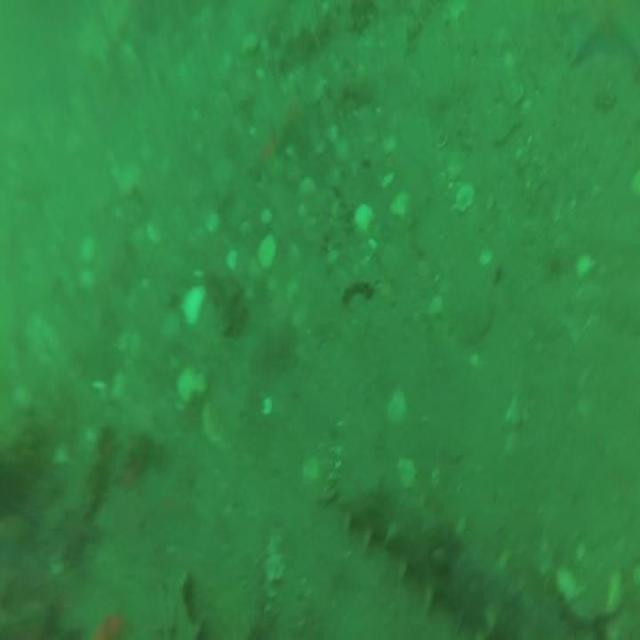holothurian: (344, 491, 563, 640)
